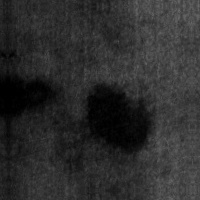patches: (83, 82, 151, 154), (8, 69, 55, 121)
